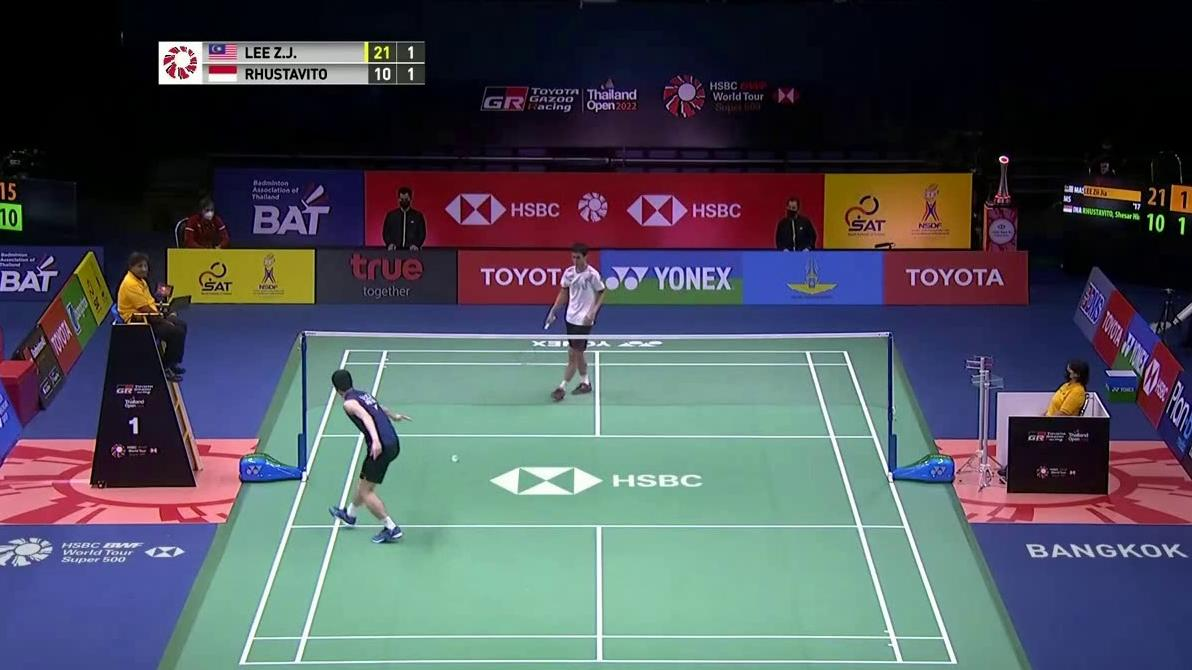racket: (518, 314, 556, 365), (389, 412, 414, 422)
shuttle: (452, 454, 459, 462)
